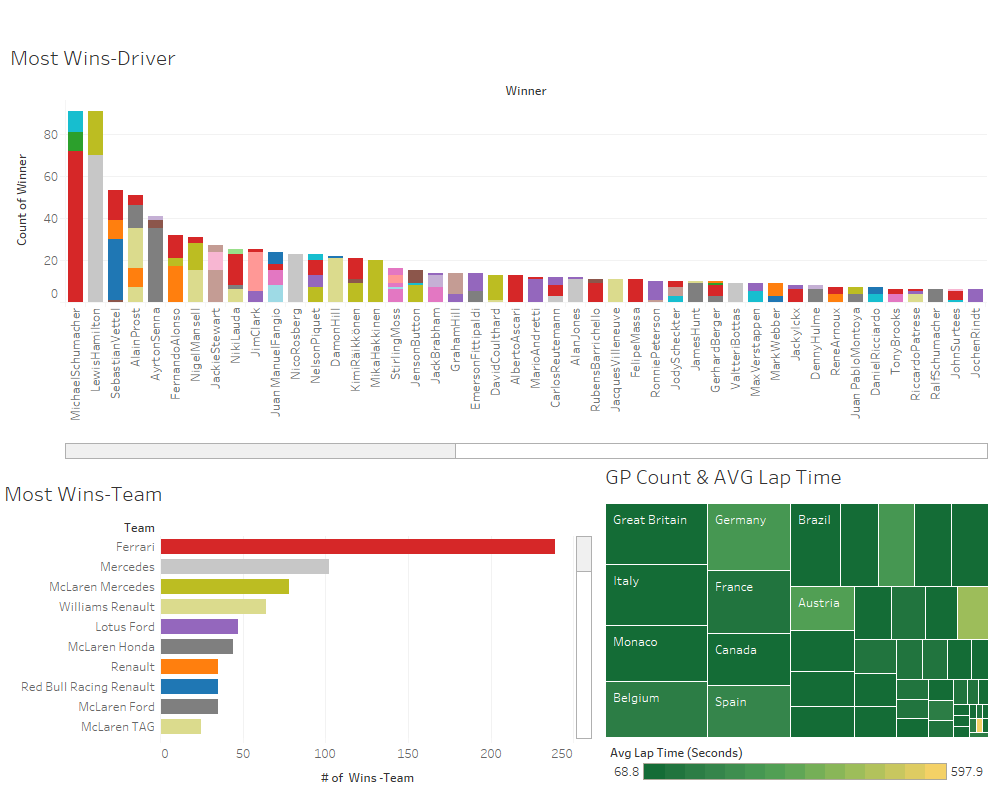

The dashboard page shown, as its layout file describes it:
{"tool":"tableau","page":{"name":"F1_Dash","canvas":[1000,800],"ordinal":0},"visuals":[{"type":"worksheet","box":[0,0,1000,800]},{"type":"worksheet","param":"horz","box":[0,0,1000,800]},{"type":"worksheet","param":"vert","box":[0,0,1000,800]},{"type":"worksheet","title":"GP Count","mark":"Automatic","param":"[federated.1mtfao10rh4n4c11j452y1j1puot].[cnt:GRAND_PRIX (F1_ALL_WINNERS):qk]","box":[0,0,1000,22]},{"type":"worksheet","title":"Most W Driver","mark":"Automatic","rows":["WINNER"],"cols":["WINNER"],"box":[5,50,981,422]},{"type":"worksheet","title":"Most wins Team","mark":"Automatic","rows":["TEAM"],"cols":["TEAM"],"box":[0,473,592,320]}]}

Visuals, with their boxes in screenshot pixels (x1, y1, x2, y2), scaled from the page's 1000x800 canvas onto the 1000x800 screenshot:
worksheet: bbox=[0, 0, 999, 799]
worksheet: bbox=[0, 0, 999, 799]
worksheet: bbox=[0, 0, 999, 799]
"GP Count" worksheet: bbox=[0, 0, 999, 22]
"Most W Driver" worksheet: bbox=[5, 50, 986, 472]
"Most wins Team" worksheet: bbox=[0, 473, 592, 793]
